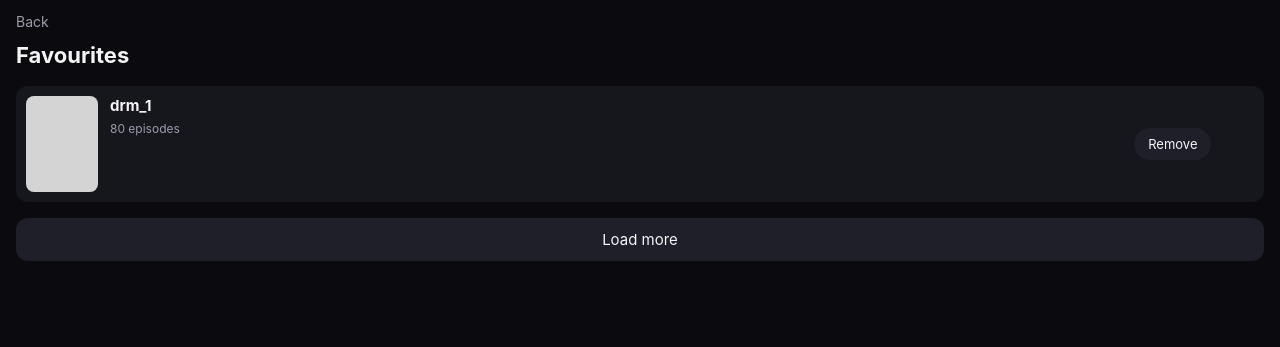
paging the list › appends the next page with the cursor the server handed back
Click the button with test id "load-more-favorites" at (640, 239), box [16,218,1264,260]
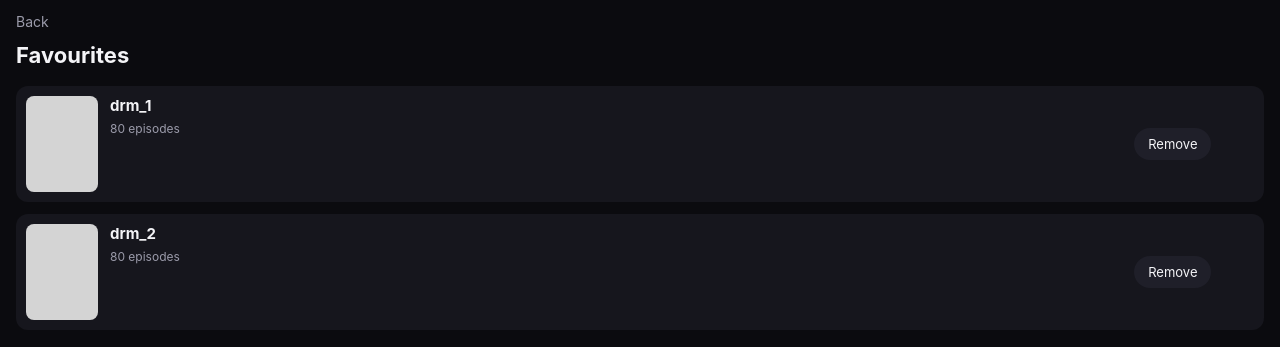
Expected: the button with test id "load-more-favorites" is gone
